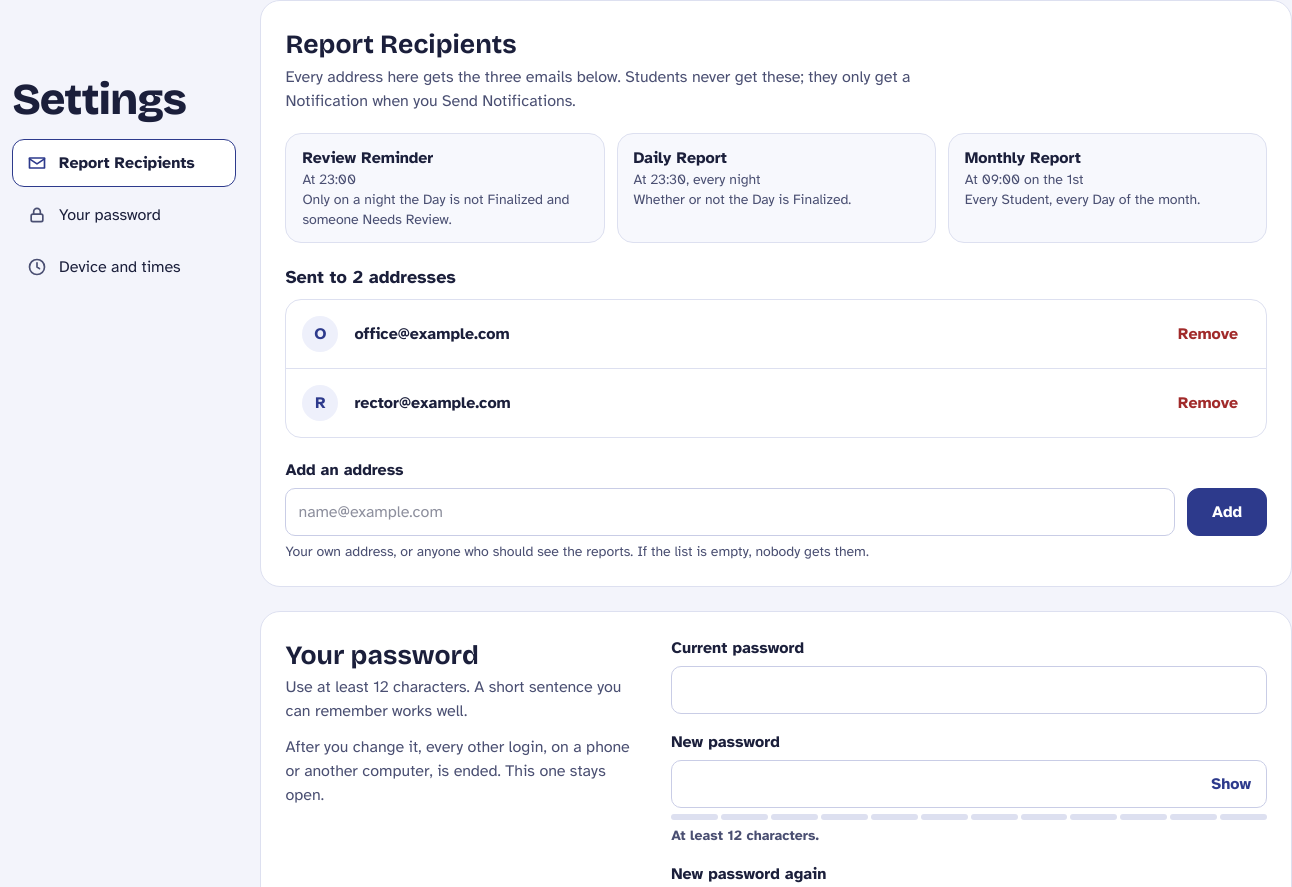
it: Report Recipients › removes the address once the Rector says yes
Expected: the text "office@example.com" is shown, top-left (354, 324), bottom-right (510, 344)
What coordinates should you click on to do the following:
click the button with aria-label "Remove office@example.com"
I would click on:
 (1208, 334)
Its box is top-left (1166, 312), bottom-right (1250, 356).
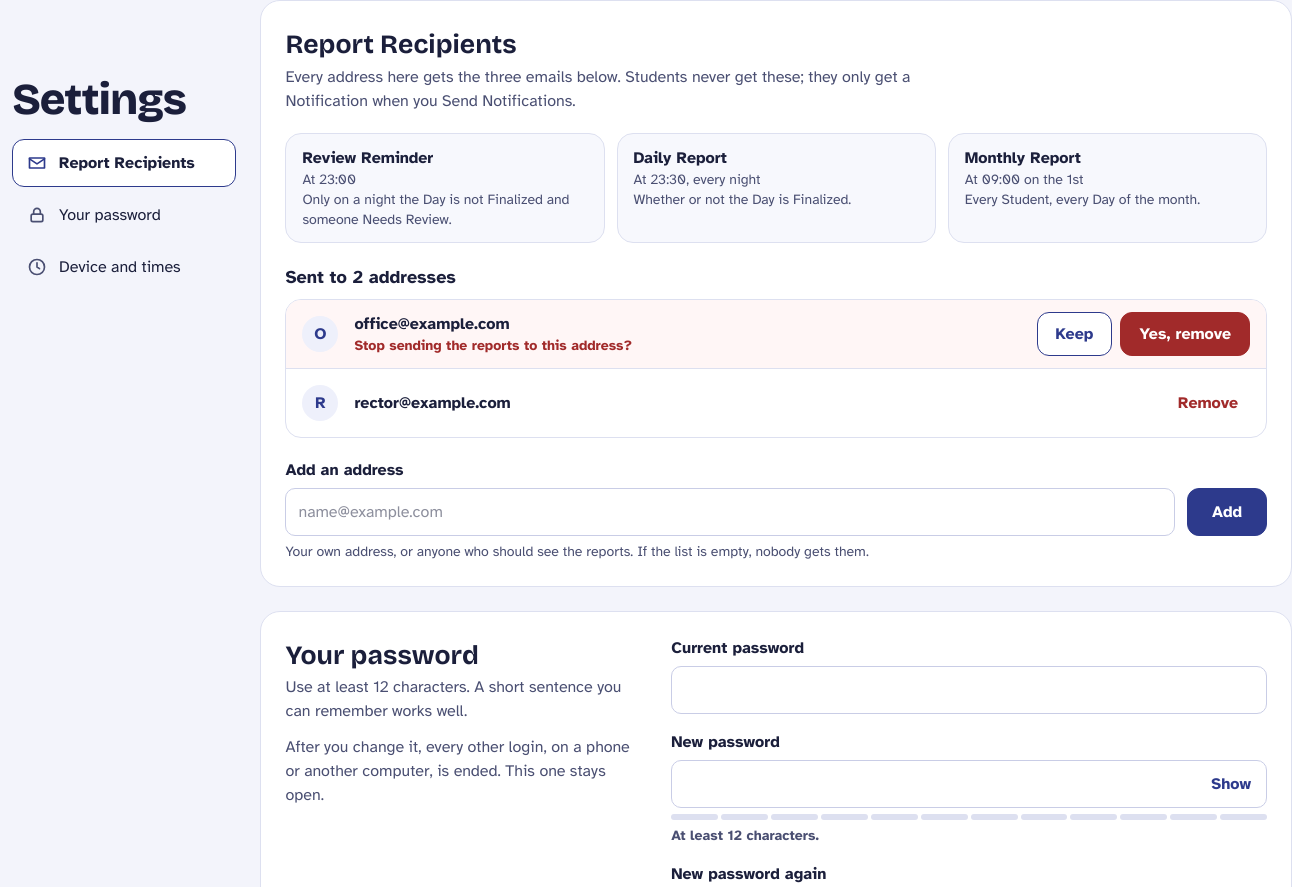
What coordinates should you click on to do the following:
click the button "Yes, remove"
I would click on:
 (1185, 334)
Its box is top-left (1120, 312), bottom-right (1250, 356).
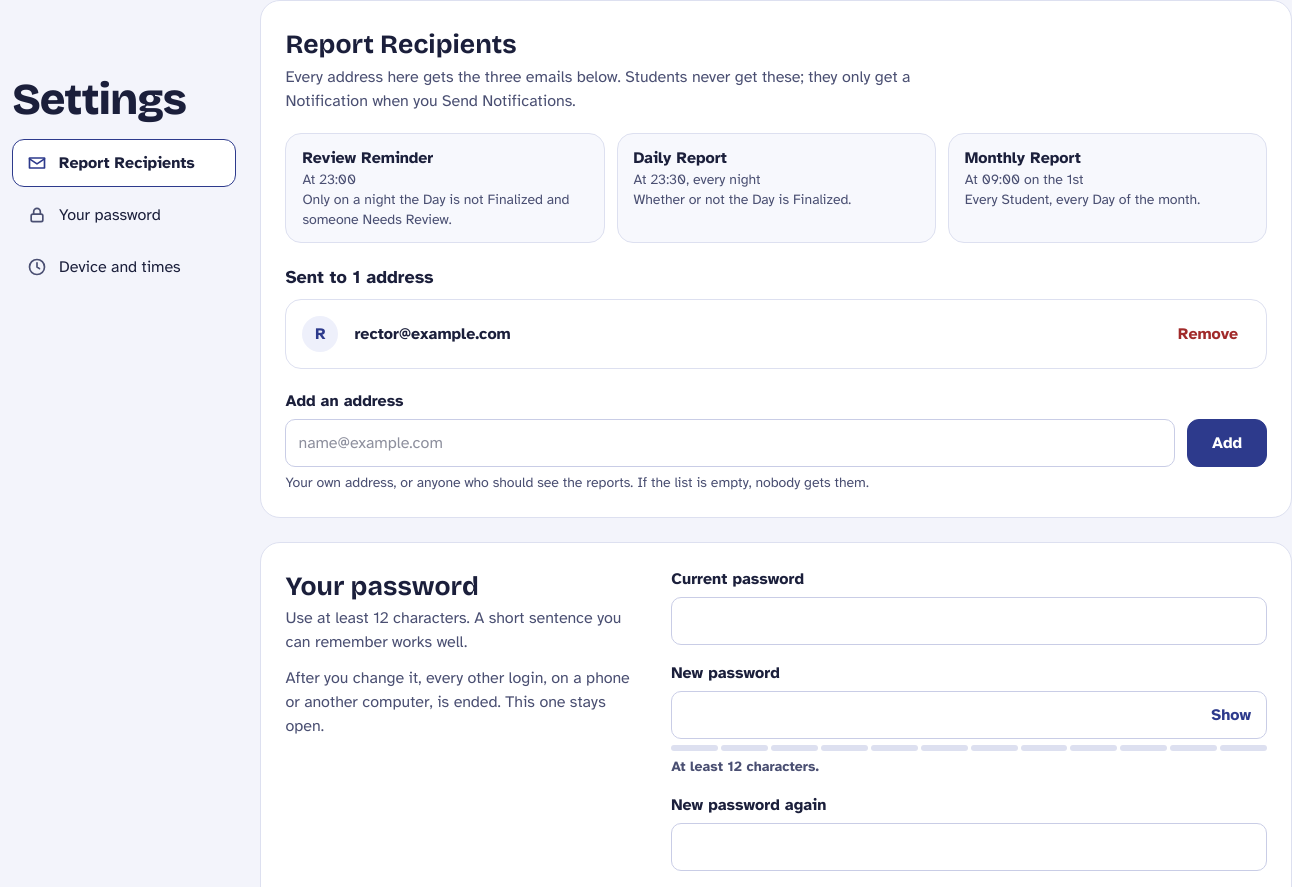
Expected: the heading "Sent to 1 address" is shown, top-left (285, 266), bottom-right (434, 288)
Expected: the text "office@example.com" is gone
